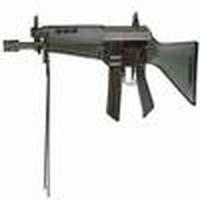gun: (2, 14, 199, 122)
